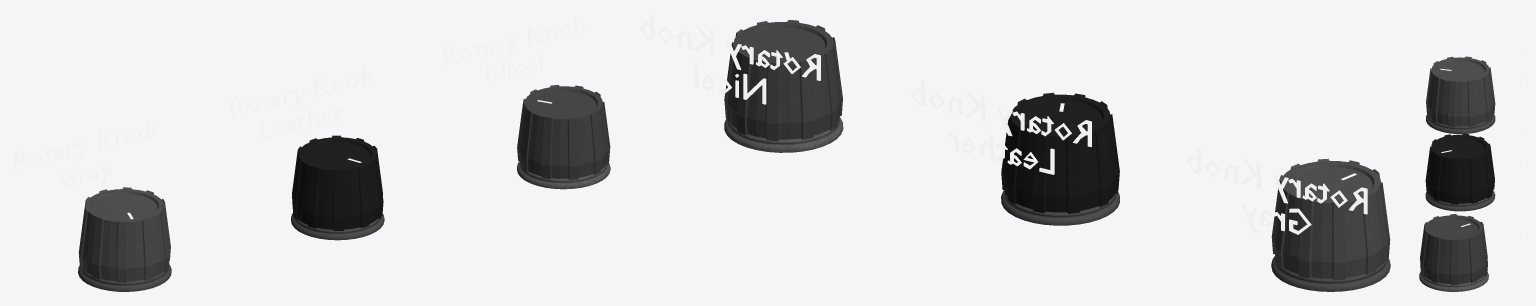
The model's file is Rotary Knob.glb.
3 renders of one model, left to right at view 1: azimuth 30°, elevation 25°; view 2: azimuth 150°, elevation 25°; view 3: azimuth 270°, elevation 25°, orthographic. The views are drawn at different scales.
Visible parts, largest first — view 1: Grip, Grip.001, Grip.002, Rotary Knob Leather, Rotary Knob Nickel, Rotary Knob Gray, Top face, Top face.001, Top face.002, Knob base, Knob base.002, Knob base.001; view 2: Grip.002, Grip.001, Grip, Rotary Knob Leather, Rotary Knob Nickel, Rotary Knob Gray, Top face, Top face.002, Top face.001, Knob base.002, Knob base, Knob base.001; view 3: Grip.001, Grip.002, Grip, Top face.001, Top face.002, Top face, Knob base.001, Knob base, Knob base.002.
Boxes of the visible parts, x1,y1,x2,y2 form: Grip: (517, 85, 610, 179); Grip.001: (292, 135, 383, 230); Grip.002: (78, 187, 170, 282); Rotary Knob Leather: (231, 66, 373, 140); Rotary Knob Nickel: (444, 14, 586, 85); Rotary Knob Gray: (14, 119, 156, 187); Top face: (531, 91, 596, 117); Top face.001: (305, 142, 370, 168); Top face.002: (92, 194, 157, 219); Knob base: (517, 161, 610, 189); Knob base.002: (78, 264, 171, 291); Knob base.001: (291, 213, 384, 240); Grip.002: (1271, 158, 1390, 280); Grip.001: (1001, 92, 1119, 213); Grip: (724, 20, 842, 141); Rotary Knob Leather: (910, 80, 1091, 174); Rotary Knob Nickel: (639, 14, 820, 104); Rotary Knob Gray: (1186, 147, 1367, 234); Top face: (742, 28, 825, 60); Top face.002: (1289, 167, 1372, 200); Top face.001: (1019, 101, 1102, 133); Knob base.002: (1271, 256, 1390, 291); Knob base: (724, 117, 843, 152); Knob base.001: (1001, 190, 1119, 225); Grip.001: (1425, 133, 1494, 204); Grip.002: (1426, 56, 1495, 126); Grip: (1420, 214, 1487, 285); Top face.001: (1436, 138, 1484, 157); Top face.002: (1436, 61, 1484, 80); Top face: (1429, 219, 1478, 238); Knob base.001: (1425, 190, 1495, 211); Knob base: (1419, 272, 1488, 291); Knob base.002: (1426, 113, 1495, 133).
Size of the model in its own units: 2.86 by 0.5155 by 0.5973.
5 materials, 4 textured.
